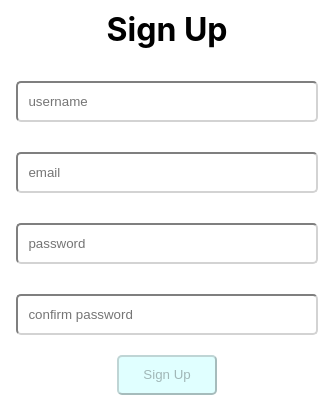
Test: Sign Up Page › interactions with layout › enables the button when password and confirm password fields have the same value
The image size is (335, 412).
Type "Password" into the password field with placeholder "password" at {"x": 167, "y": 243}, box [16,223,318,264]
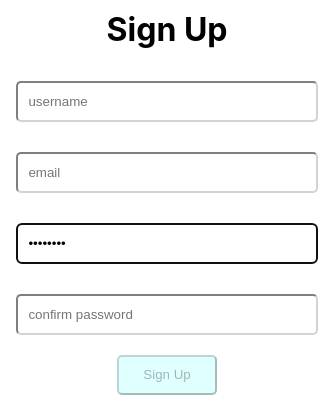
Type "Password" into the password field with placeholder "confirm password" at {"x": 167, "y": 314}, box [16,294,318,335]
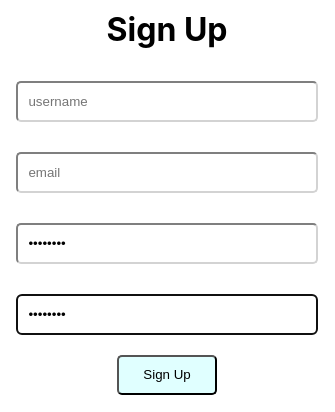
Expected: the button "Sign Up" is enabled, [117,355,217,395]
